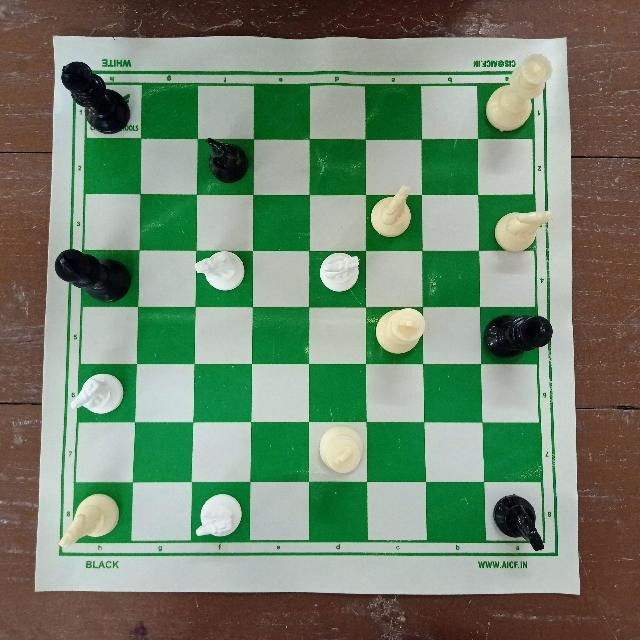black-king: (59, 57, 132, 135), (53, 245, 133, 303), (482, 310, 553, 364)
black-knight: (490, 492, 550, 557), (200, 132, 254, 187)
white-king: (372, 305, 428, 363), (315, 423, 367, 477)
white-knight: (52, 493, 124, 553), (68, 368, 128, 420), (490, 205, 550, 255), (366, 182, 415, 243), (191, 246, 247, 296), (193, 493, 245, 545), (315, 249, 363, 295)
white-queen: (484, 51, 552, 133)
